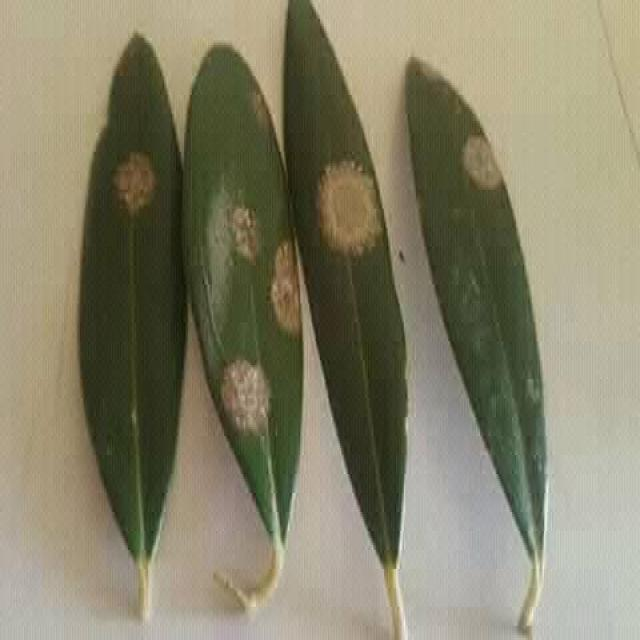Peacock Eye: (405, 64, 547, 628), (284, 0, 407, 638), (79, 36, 187, 616), (184, 45, 303, 550)
